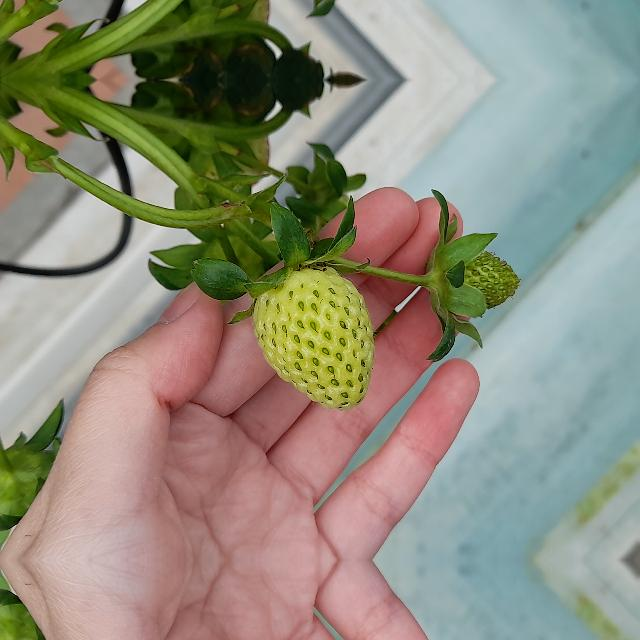Health_25: (252, 266, 374, 410)
